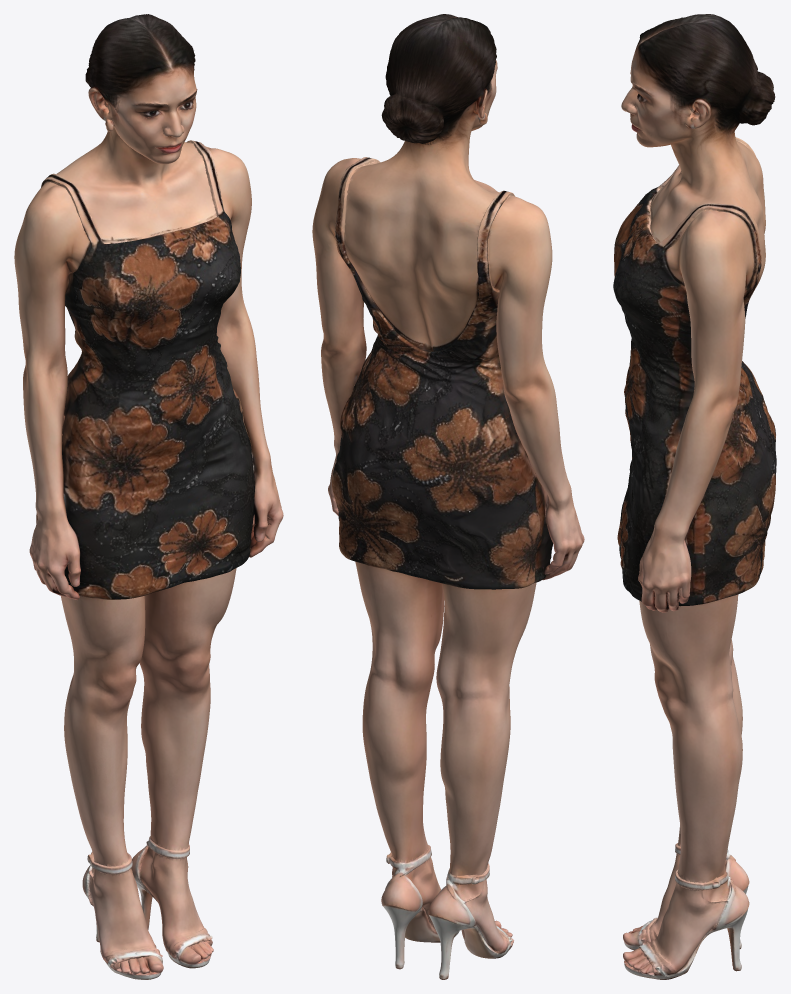
File: realone.glb
3 views of the same model, side by side, from view 1: azimuth 30°, elevation 25°; view 2: azimuth 150°, elevation 25°; view 3: azimuth 270°, elevation 25° (orthographic).
Parts seen in each view (by area): view 1: tripo_node_3a2ff6d3-8e27-4fb3-a38a-45843cd04dad; view 2: tripo_node_3a2ff6d3-8e27-4fb3-a38a-45843cd04dad; view 3: tripo_node_3a2ff6d3-8e27-4fb3-a38a-45843cd04dad.
Boxes of the visible parts, x1,y1,x2,y2 form: tripo_node_3a2ff6d3-8e27-4fb3-a38a-45843cd04dad: (14, 14, 283, 979); tripo_node_3a2ff6d3-8e27-4fb3-a38a-45843cd04dad: (312, 14, 584, 979); tripo_node_3a2ff6d3-8e27-4fb3-a38a-45843cd04dad: (613, 14, 776, 979).
Size of the model in its own units: 0.2676 by 0.9795 by 0.1543.
1 material, 1 textured.
